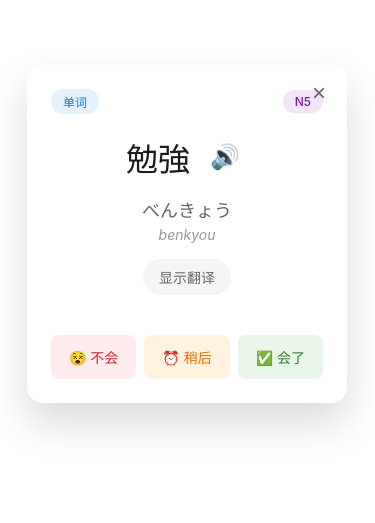
Scenario: StudyCard Component › shows translation when toggle button is clicked
Expected: the text "学习" is not shown
// Click toggle button
Click the button "显示翻译" at [187, 277], box [143,259,231,295]
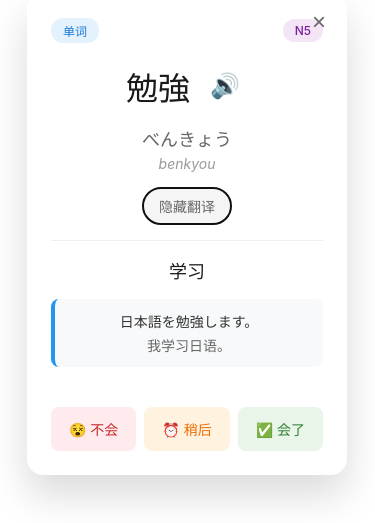
Now the text "学习" is shown, box [169,260,205,282]
Now the text "日本語を勉強します。" is shown, box [120,314,258,330]
Now the text "我学习日语。" is shown, box [147,336,231,354]
